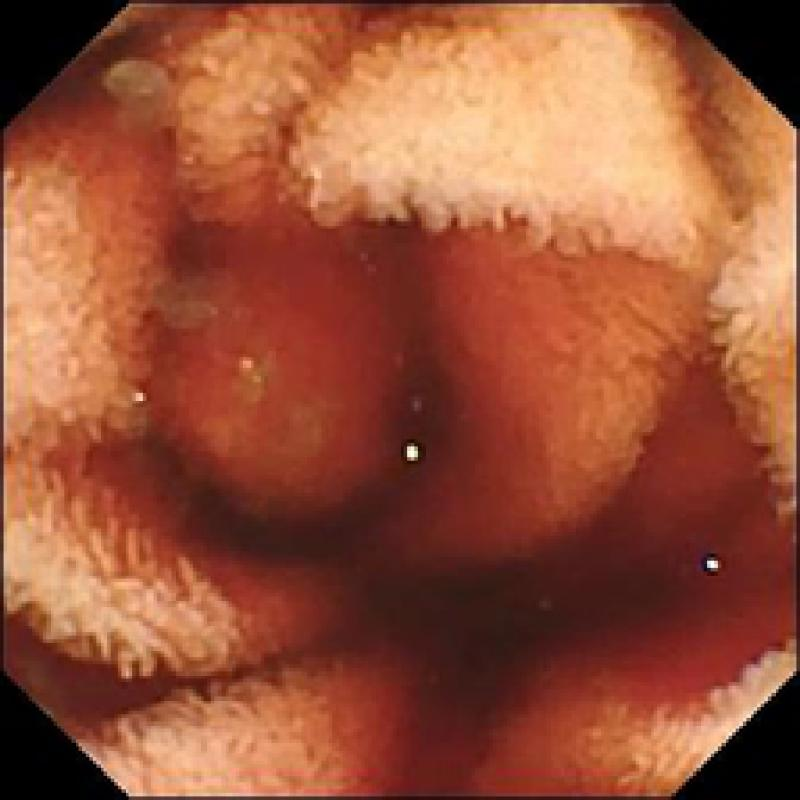bleeding: (7, 21, 793, 796)
